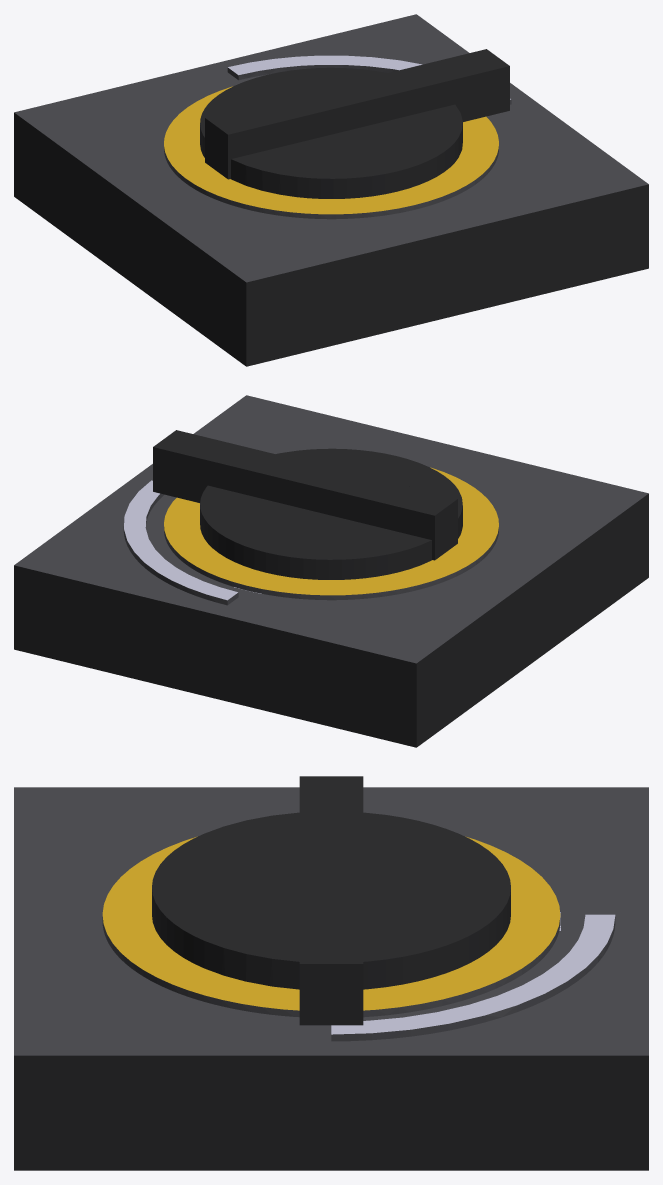
Rendered from 旋转开关.obj.
3 views of the same model, one above another, from view 1: azimuth 30°, elevation 25°; view 2: azimuth 150°, elevation 25°; view 3: azimuth 270°, elevation 25° (orthographic). The views are drawn at different scales.
Visible parts, largest first — view 1: object_1, object_2; view 2: object_1, object_2; view 3: object_1, object_2.
Part boxes in pixels (<box>): object_1: <box>14,14,648,366</box>; object_2: <box>200,49,509,198</box>; object_1: <box>14,395,648,747</box>; object_2: <box>153,430,462,579</box>; object_1: <box>14,787,648,1170</box>; object_2: <box>152,776,510,1025</box>.
Size of the model in its own units: 0.9 by 0.2871 by 0.9.
Materials: 1 (1 with a texture image).
